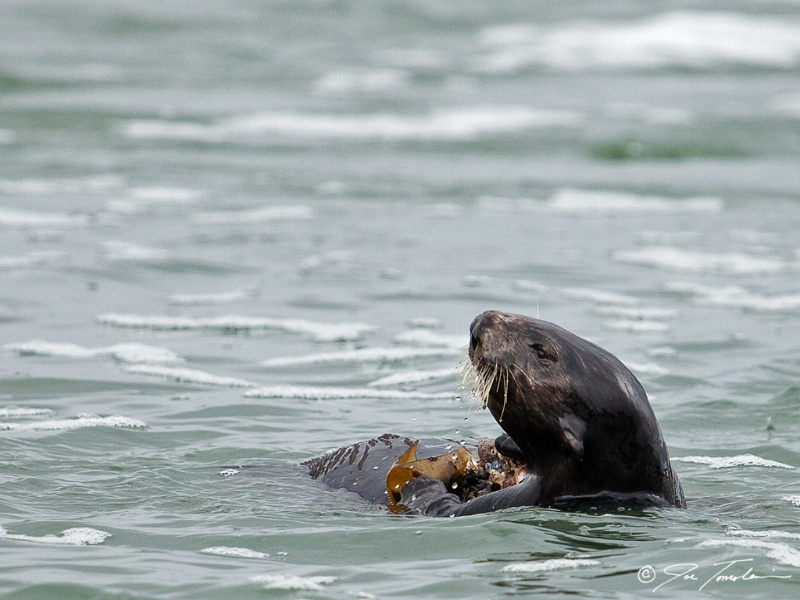minkish: (226, 305, 690, 531)
